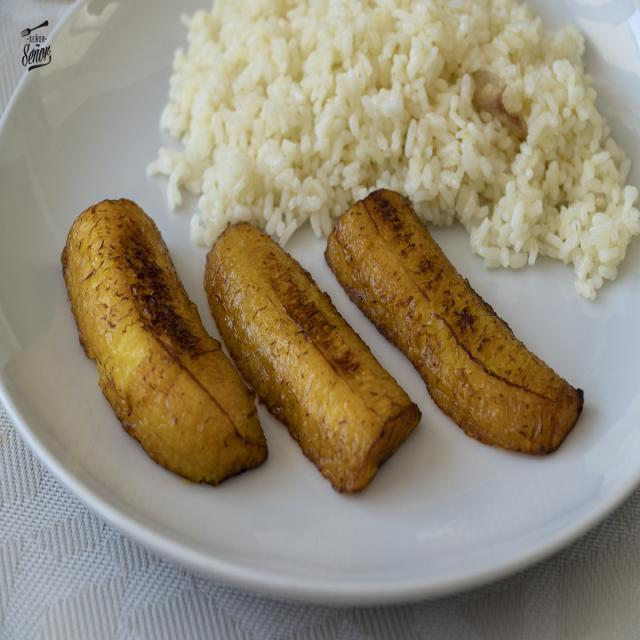arroz: (146, 1, 640, 312)
platano: (322, 181, 588, 475), (195, 218, 429, 512), (56, 195, 273, 502)
